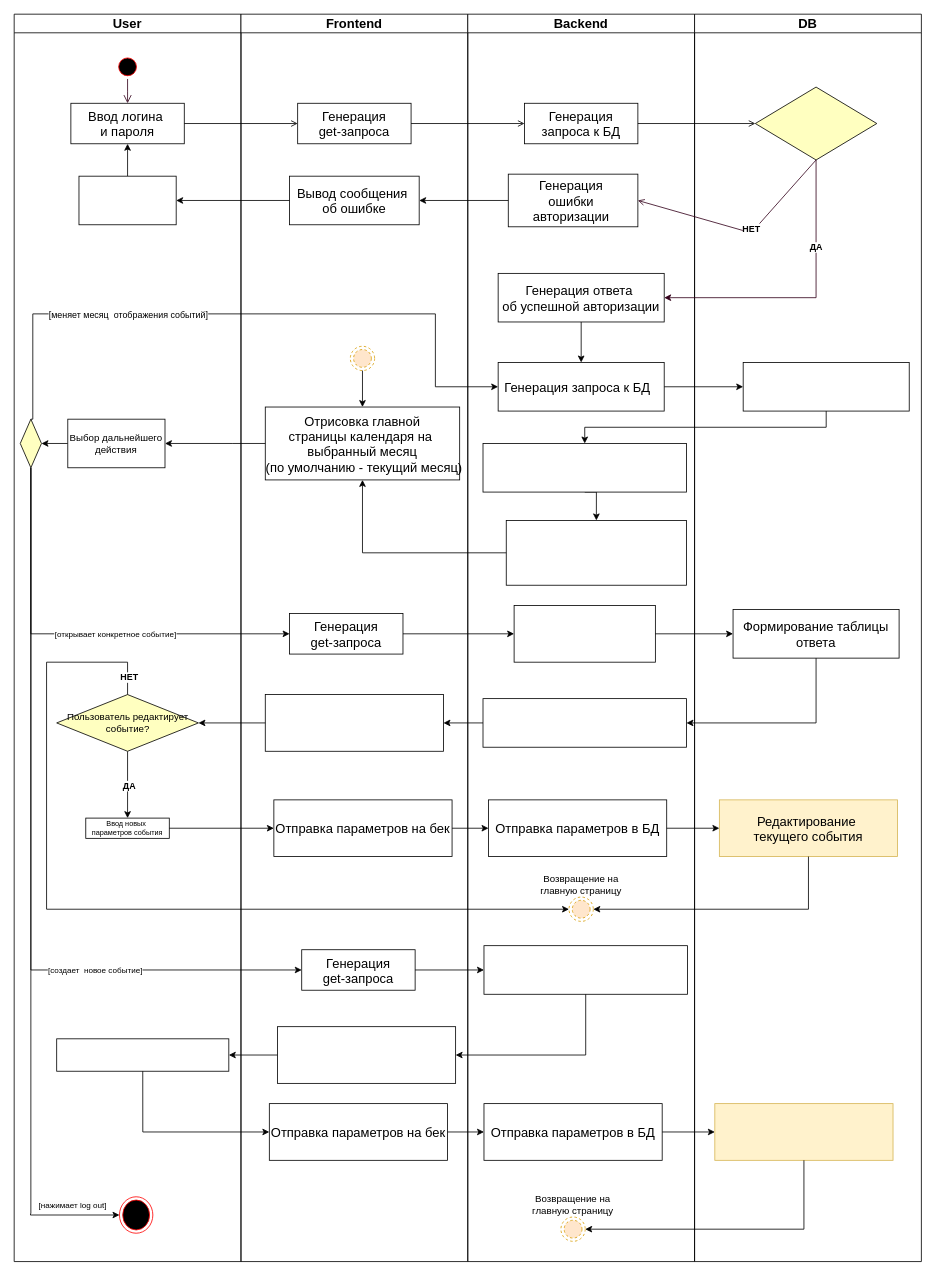
The diagram is 936 pixels wide and 1276 high, and some of its shapes have lost their labels. Each missing label, with the centre of its shape:
"Ввод параметров события" belongs at [142,1054].
"Генерация запроса к БД по выбранному событию" belongs at [584,633].
"Генерация календаря и событий только для текущего пользователя" belongs at [595,552].
"Генерация страницы события с полученными параметрами события" belongs at [584,722].
"Генерация страницы создания события" belongs at [585,969].
"Запись нового события" belongs at [803,1131].
"Нашли соответствие в данных?" belongs at [816,123].
"Отрисовка страницы просмотра события" belongs at [353,722].
"Отрисовка страницы создания события" belongs at [366,1054].
"Регистрация" belongs at [127,200].
"Сортировка событий по пользователям и датам" belongs at [584,467].
"Формирование таблицы событий и участников" belongs at [825,386].
